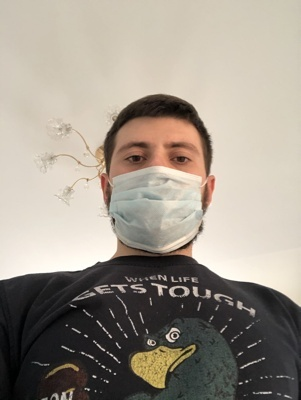good: (109, 134, 206, 253)
